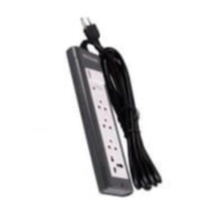three_eye_plug: (62, 43, 135, 200)
